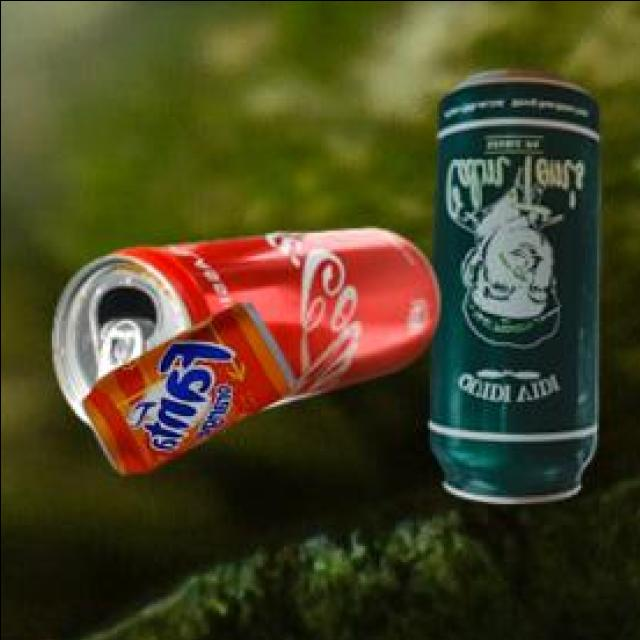logam: (50, 231, 435, 428), (423, 73, 595, 504), (78, 305, 291, 477)
